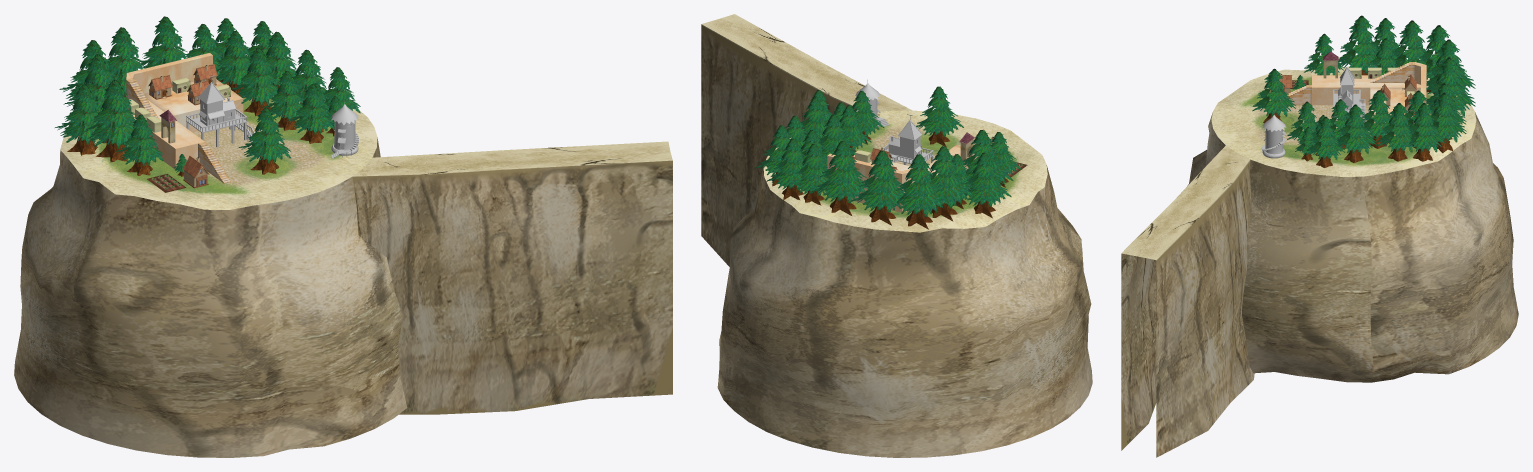
Rendered from F_stag.fbx.
3 views of the same model, side by side, from view 1: azimuth 30°, elevation 25°; view 2: azimuth 150°, elevation 25°; view 3: azimuth 270°, elevation 25° (orthographic). The views are drawn at different scales.
Visible parts, largest first — view 1: stage, wall, tree_05, house3_HM_house3_HC_1, tree_03, tree_06, tree_16, tree_04, tree_22, tree_15, tree_11, tree_10 (+8 smaller); view 2: stage, tree_11, tree_10, tree_09, tree_08, tree_06, tree_03, tree_13, tree_12, house3_HM_house3_HC_1, wall, tree_05 (+9 smaller); view 3: stage, wall, tree_05, tree_17, tree_14, tree_23, tree_11, tree_03, tree_13, tree_08, tree_19, tree_16 (+11 smaller).
Part boxes in pixels (x1=…): stage: x1=14, y1=85, x2=672, y2=457; wall: x1=126, y1=53, x2=243, y2=183; tree_05: x1=84, y1=80, x2=137, y2=162; house3_HM_house3_HC_1: x1=186, y1=75, x2=254, y2=147; tree_03: x1=238, y1=107, x2=290, y2=174; tree_06: x1=55, y1=84, x2=103, y2=155; tree_16: x1=231, y1=48, x2=282, y2=116; tree_04: x1=115, y1=114, x2=163, y2=175; tree_22: x1=288, y1=84, x2=334, y2=143; tree_15: x1=216, y1=31, x2=254, y2=97; tree_11: x1=140, y1=16, x2=188, y2=68; tree_10: x1=106, y1=27, x2=145, y2=96; stage: x1=701, y1=14, x2=1092, y2=457; tree_11: x1=811, y1=141, x2=868, y2=215; tree_10: x1=851, y1=150, x2=908, y2=225; tree_09: x1=894, y1=154, x2=948, y2=229; tree_08: x1=930, y1=146, x2=974, y2=221; tree_06: x1=962, y1=152, x2=1011, y2=218; tree_03: x1=916, y1=86, x2=963, y2=147; tree_13: x1=766, y1=138, x2=809, y2=200; tree_12: x1=787, y1=143, x2=828, y2=205; house3_HM_house3_HC_1: x1=883, y1=114, x2=933, y2=165; wall: x1=827, y1=144, x2=978, y2=212; tree_05: x1=961, y1=129, x2=1013, y2=188; stage: x1=1121, y1=66, x2=1518, y2=457; wall: x1=1280, y1=62, x2=1426, y2=135; tree_05: x1=1334, y1=15, x2=1382, y2=75; tree_17: x1=1337, y1=104, x2=1377, y2=162; tree_14: x1=1408, y1=103, x2=1446, y2=161; tree_23: x1=1376, y1=103, x2=1415, y2=161; tree_11: x1=1426, y1=57, x2=1475, y2=122; tree_03: x1=1252, y1=68, x2=1295, y2=123; tree_13: x1=1430, y1=92, x2=1466, y2=153; tree_08: x1=1384, y1=20, x2=1434, y2=79; tree_19: x1=1305, y1=116, x2=1344, y2=167; tree_16: x1=1361, y1=90, x2=1395, y2=148.
Bounding box in the file's own units: 14606 × 8543 × 11530.
